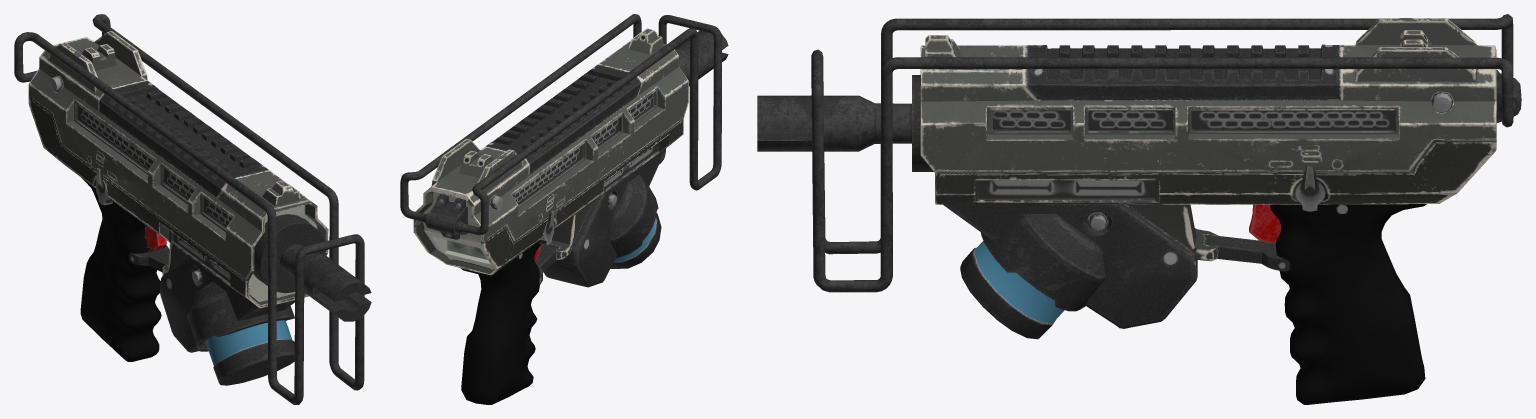
File: SM_SciFiSkorp-IO.FBX
3 views of the same model, side by side, from view 1: azimuth 30°, elevation 25°; view 2: azimuth 150°, elevation 25°; view 3: azimuth 270°, elevation 25° (orthographic). The views are drawn at different scales.
Parts seen in each view (by area): view 1: SM_Skorp-IO; view 2: SM_Skorp-IO; view 3: SM_Skorp-IO.
Boxes of the visible parts, box(x1,y1,x2,y2) form: SM_Skorp-IO: box(14, 14, 371, 404); SM_Skorp-IO: box(400, 14, 728, 404); SM_Skorp-IO: box(757, 14, 1521, 404).
Size of the model in its own units: 8.39 by 23.68 by 45.22.
